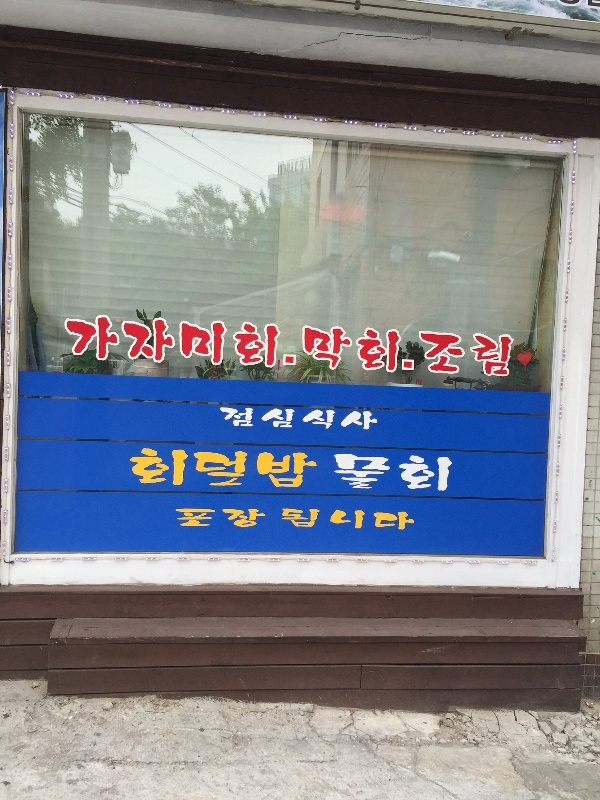text: (65, 311, 80, 378), (81, 311, 96, 378), (97, 311, 112, 378), (113, 311, 128, 378), (129, 311, 144, 378), (145, 311, 160, 378), (161, 311, 176, 378), (177, 311, 192, 378), (193, 311, 208, 378), (209, 311, 224, 378), (225, 311, 240, 378), (241, 311, 256, 378), (257, 311, 272, 378), (273, 311, 288, 378), (305, 322, 320, 376), (321, 322, 336, 376), (337, 322, 352, 376), (353, 322, 368, 376), (369, 322, 384, 376), (385, 322, 400, 376), (289, 311, 301, 378), (497, 331, 513, 380), (129, 442, 144, 492), (145, 442, 160, 492), (161, 442, 176, 492), (177, 442, 192, 492), (193, 442, 208, 492), (209, 442, 224, 492), (225, 442, 240, 492), (241, 442, 256, 492), (257, 442, 272, 492), (273, 442, 288, 492), (289, 442, 304, 492), (305, 442, 320, 492), (433, 331, 448, 380), (449, 331, 464, 380), (465, 331, 480, 380), (481, 331, 496, 380), (401, 322, 414, 376), (418, 331, 432, 380), (337, 451, 352, 496), (353, 451, 368, 496), (369, 451, 384, 496), (385, 451, 400, 496), (401, 451, 416, 496), (417, 451, 432, 496), (433, 451, 448, 496), (225, 404, 240, 434), (241, 404, 256, 434), (257, 404, 272, 434), (273, 404, 288, 434), (289, 404, 304, 434), (305, 404, 320, 434), (321, 404, 336, 434), (337, 404, 352, 434), (353, 404, 368, 434), (177, 505, 192, 533), (193, 505, 208, 533), (209, 505, 224, 533), (225, 505, 240, 533), (241, 505, 256, 533), (257, 505, 272, 533), (273, 505, 288, 533), (289, 505, 304, 533), (305, 505, 320, 533), (321, 505, 336, 533), (337, 505, 352, 533), (353, 505, 368, 533), (369, 505, 384, 533), (385, 505, 400, 533), (401, 505, 416, 533), (369, 404, 380, 434), (330, 451, 336, 496), (321, 442, 326, 492), (449, 451, 454, 496), (217, 404, 224, 434), (124, 442, 128, 492), (302, 322, 304, 376), (173, 505, 176, 533), (417, 505, 418, 533)
